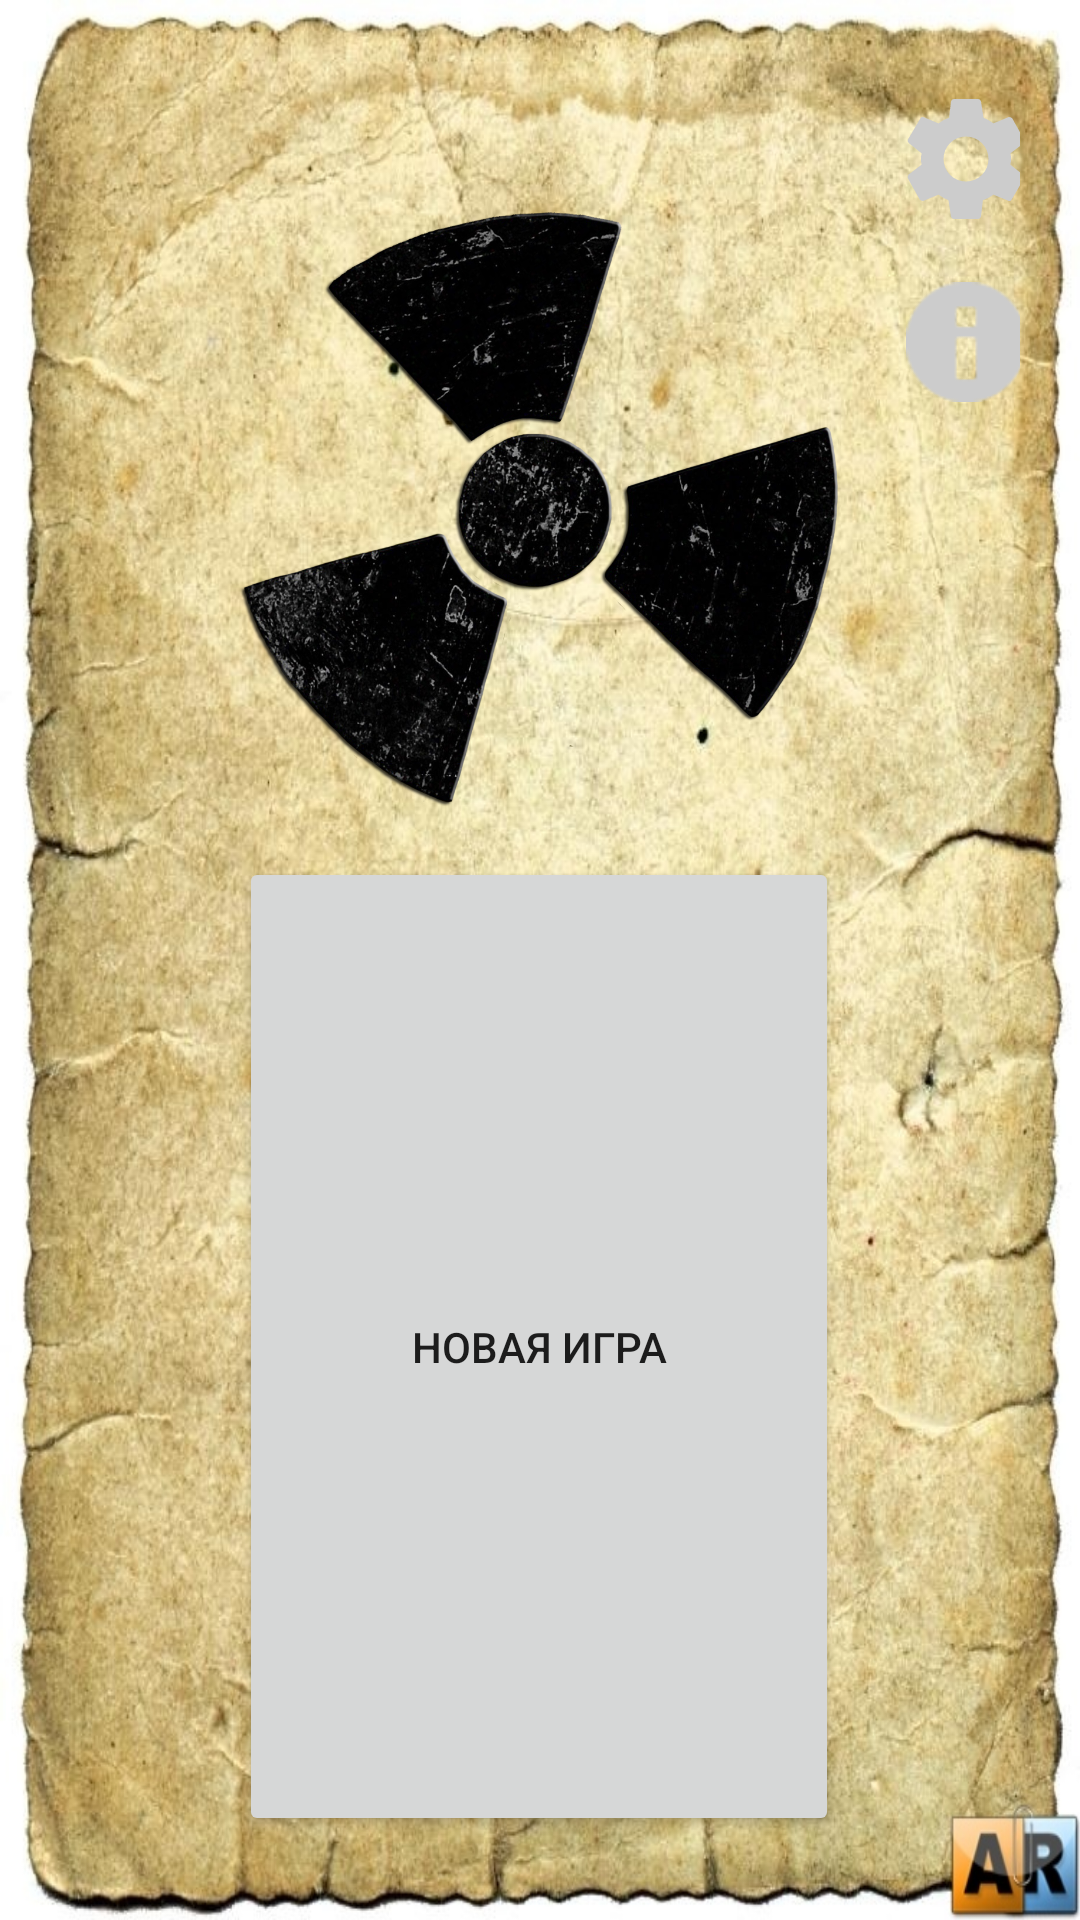

Where to tap for icons on this 1080 x 1920 app screen, as (x,y):
info: (966,342)
settings: (966,159)
